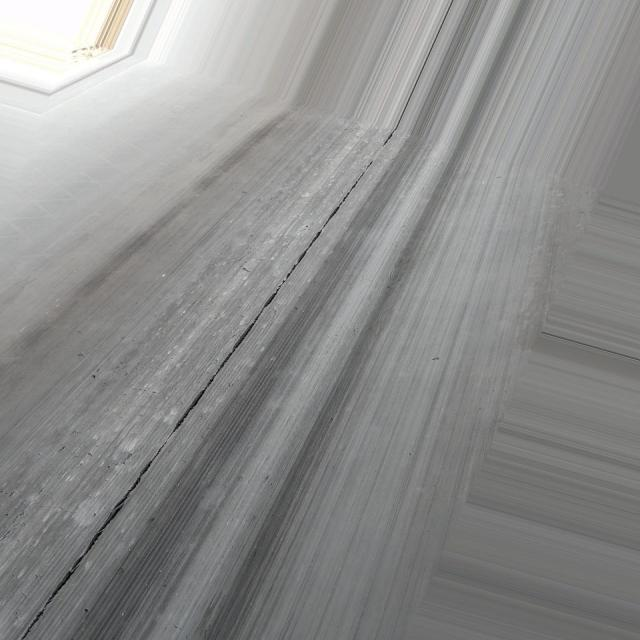Tear: (6, 7, 442, 640)
